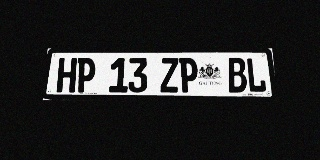1: (109, 58, 128, 92)
3: (128, 58, 147, 92)
B: (227, 58, 248, 92)
H: (56, 58, 77, 92)
L: (246, 58, 267, 92)
P: (75, 58, 96, 92), (179, 58, 198, 92)
Z: (160, 58, 179, 92)
